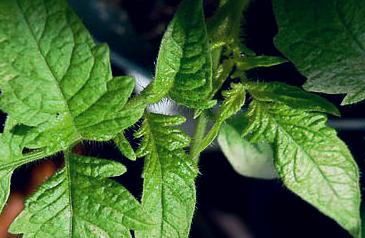Tomato leaf: (234, 72, 365, 238), (0, 0, 129, 166), (4, 144, 156, 238), (126, 107, 201, 238), (145, 0, 215, 112)
